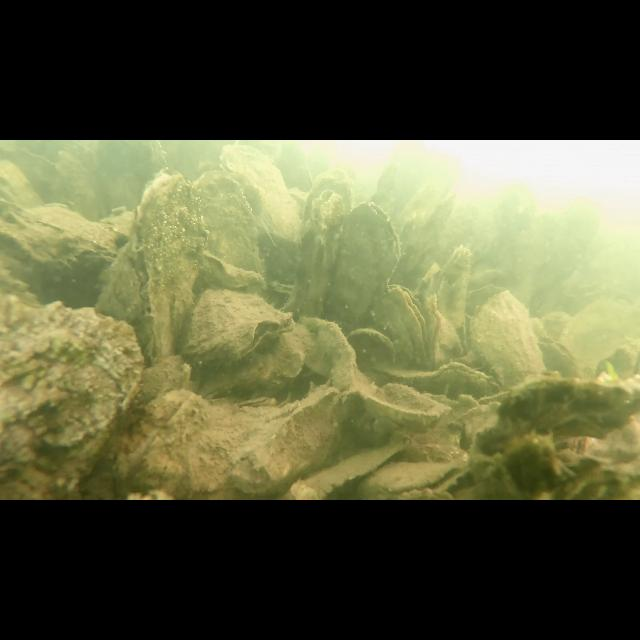Oyster-Closed: (0, 294, 142, 501), (472, 378, 640, 454), (234, 386, 340, 494), (0, 197, 116, 279), (125, 388, 207, 500), (193, 168, 263, 278), (470, 286, 544, 389), (295, 179, 351, 295), (372, 360, 502, 398), (432, 243, 471, 344), (358, 384, 449, 424), (426, 290, 464, 368), (200, 250, 264, 290), (348, 328, 397, 377)
Oyster-Open: (129, 168, 207, 360), (326, 202, 402, 332), (178, 290, 296, 368), (218, 142, 302, 242), (372, 286, 430, 372), (361, 462, 465, 501), (538, 333, 578, 377)
